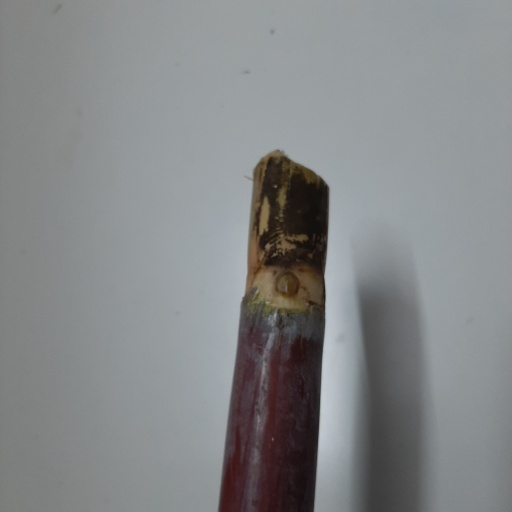Bud: (275, 272, 299, 297)
